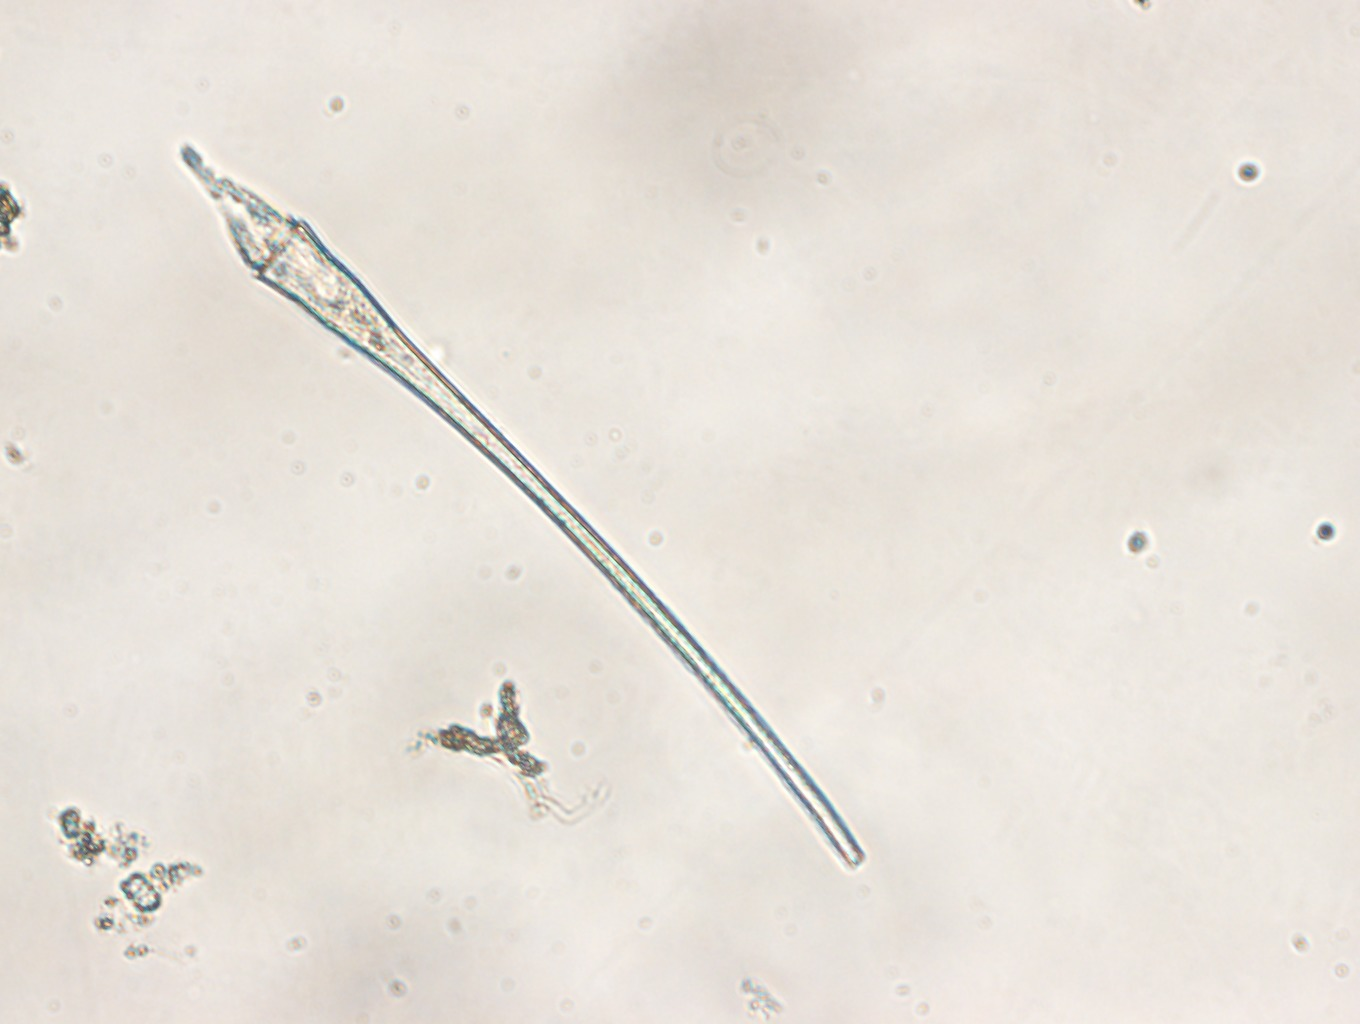ceratium fusus: (178, 146, 865, 868)
